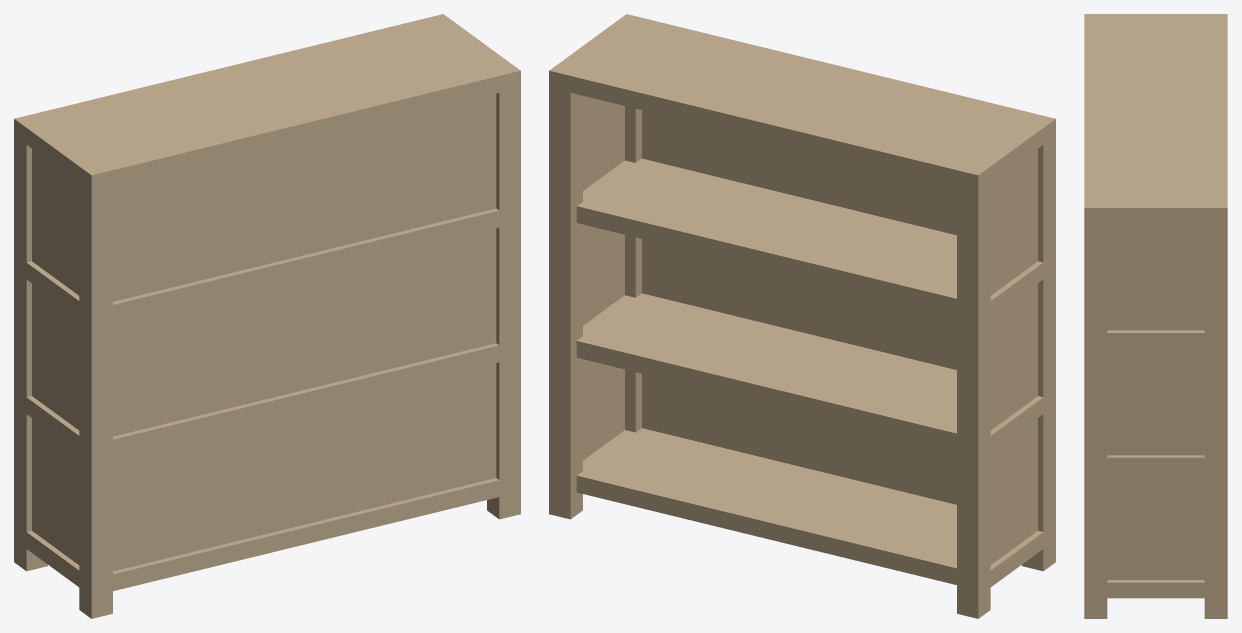
The model's file is furn_bookcase_wide.glb.
3 views of the same model, side by side, from view 1: azimuth 30°, elevation 25°; view 2: azimuth 150°, elevation 25°; view 3: azimuth 270°, elevation 25° (orthographic). The views are drawn at different scales.
Parts seen in each view (by area): view 1: furn_bookcase_wide; view 2: furn_bookcase_wide; view 3: furn_bookcase_wide.
Boxes of the visible parts, x1=… form: furn_bookcase_wide: x1=14, y1=14, x2=520, y2=618; furn_bookcase_wide: x1=549, y1=14, x2=1055, y2=618; furn_bookcase_wide: x1=1084, y1=14, x2=1227, y2=618.
Bounding box in the file's own units: 1.6 × 1.58 × 0.5.
